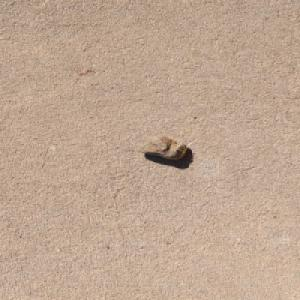Rock: (135, 135, 187, 160)
